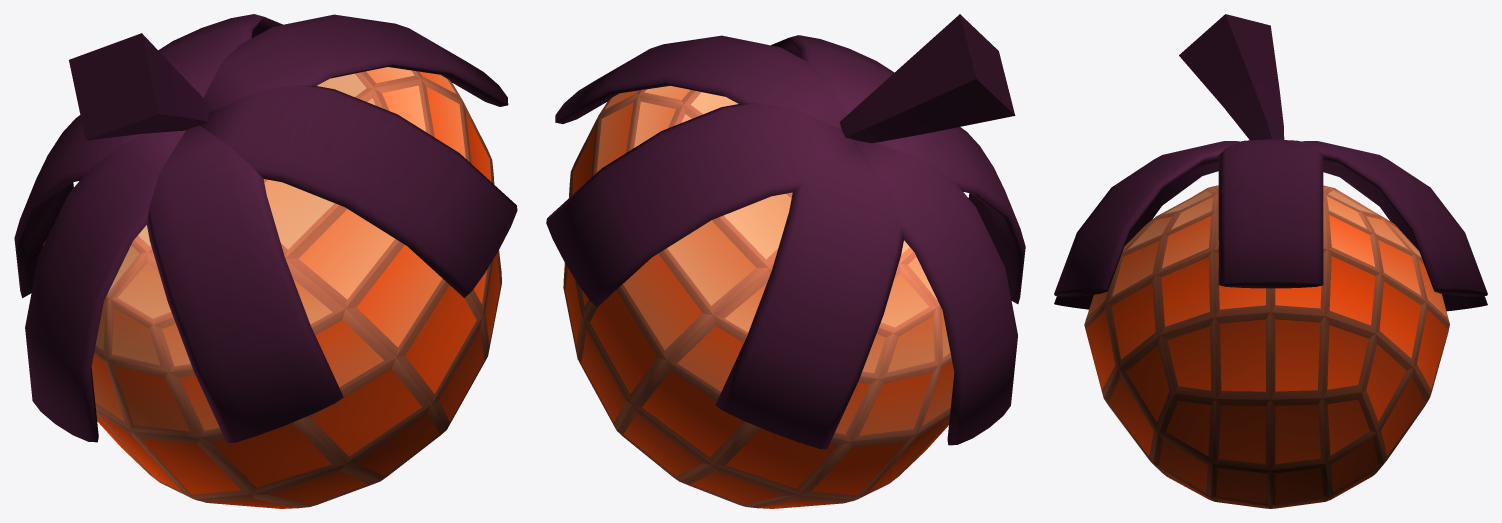
File: GoldApple.fbx
The picture shows the model from 3 angles, left to right: view 1: azimuth 30°, elevation 25°; view 2: azimuth 150°, elevation 25°; view 3: azimuth 270°, elevation 25°; orthographic projection. The views are drawn at different scales.
Parts seen in each view (by area): view 1: GoldApple; view 2: GoldApple; view 3: GoldApple.
Boxes of the visible parts, x1,y1,x2,y2 form: GoldApple: (14,14,517,508); GoldApple: (546,14,1025,508); GoldApple: (1054,14,1487,508).
Bounding box in the file's own units: 2.43 × 2.72 × 2.57.
